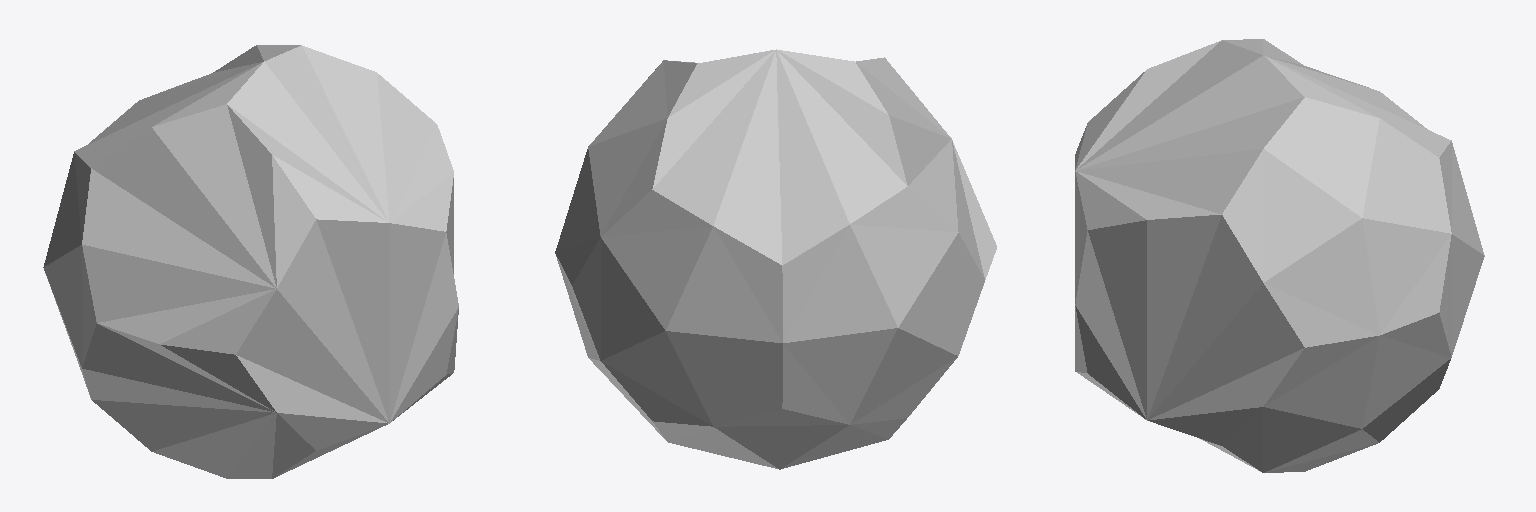
File: err_face.obj
3 views of the same model, side by side, from view 1: azimuth 30°, elevation 25°; view 2: azimuth 150°, elevation 25°; view 3: azimuth 270°, elevation 25° (orthographic).
Parts seen in each view (by area): view 1: pPlatonic1; view 2: pPlatonic1; view 3: pPlatonic1.
Part boxes in pixels (left/top/right/bottom): pPlatonic1: left=43, top=45, right=458, bottom=478; pPlatonic1: left=555, top=49, right=996, bottom=469; pPlatonic1: left=1075, top=39, right=1484, bottom=472.
Size of the model in its own units: 1.96 by 2 by 1.85.